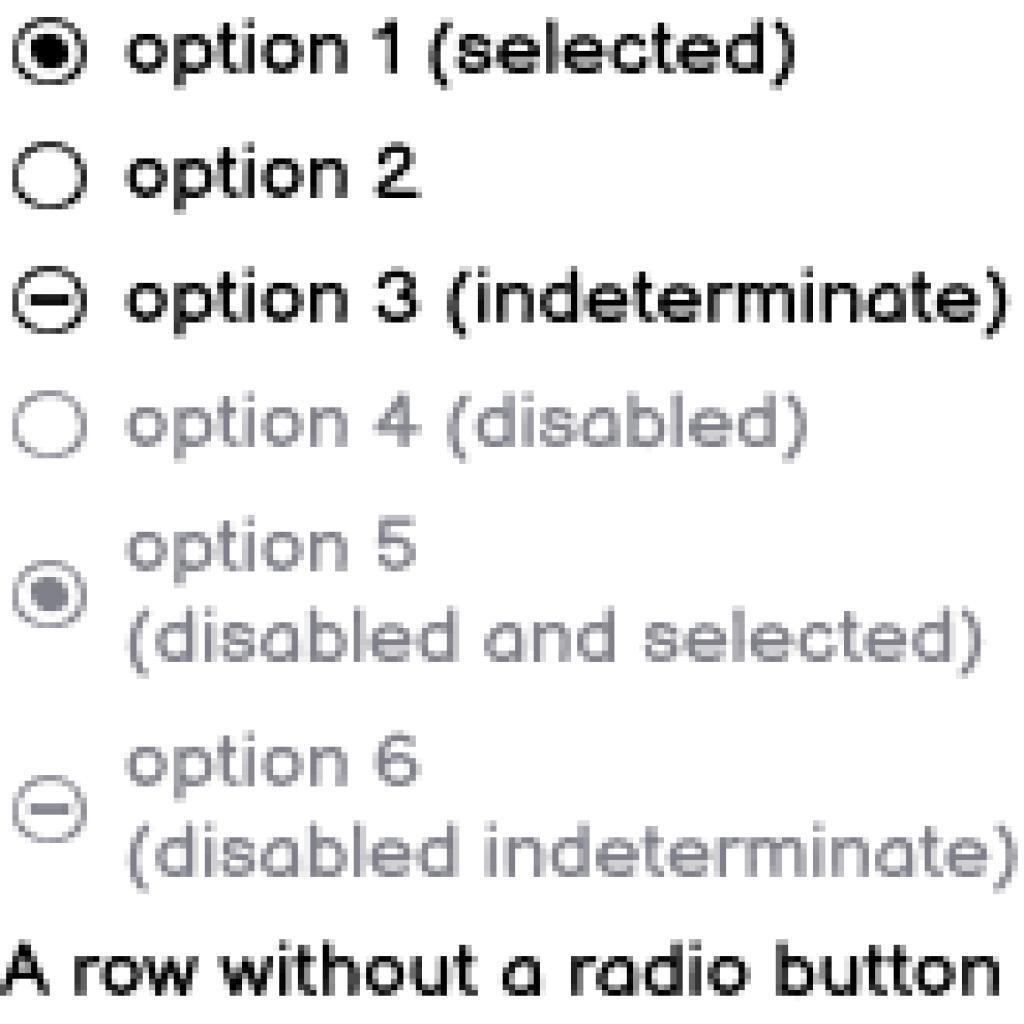label: (124, 510, 991, 678), (128, 732, 1020, 895), (117, 264, 1010, 344), (2, 940, 999, 1001), (124, 12, 805, 94), (118, 395, 812, 465), (118, 138, 436, 217)
radio: (12, 772, 91, 851), (12, 139, 90, 214), (13, 16, 90, 87), (14, 391, 91, 461), (14, 262, 85, 335), (15, 561, 89, 628)
